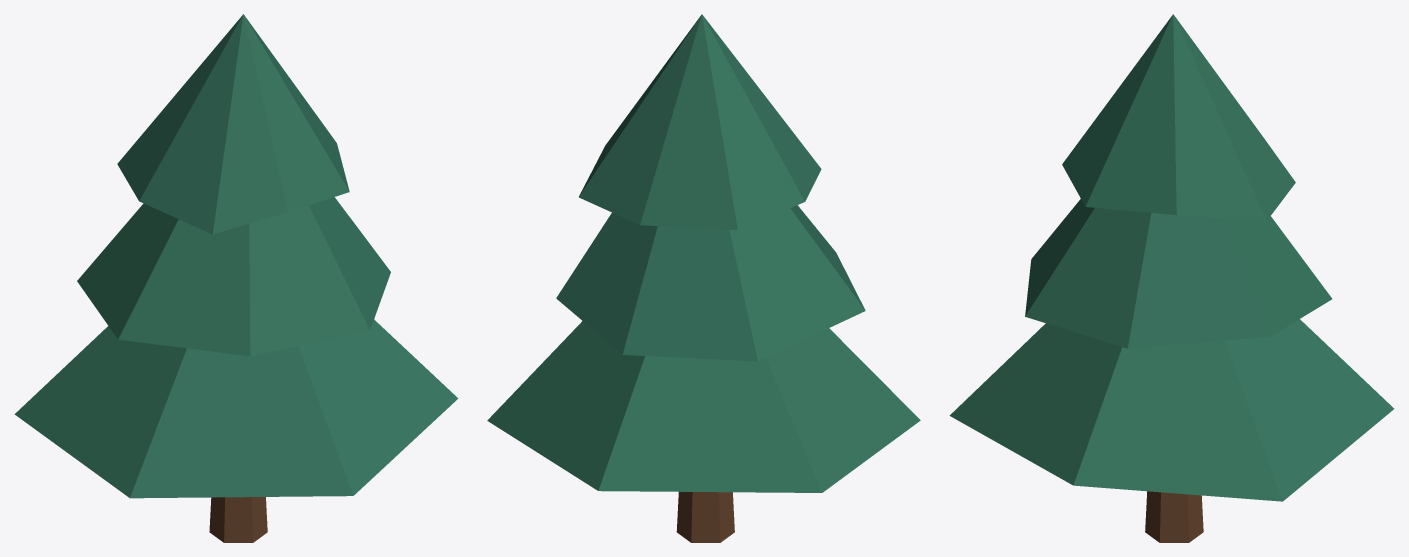
The model's file is Pine_C.glb.
3 views of the same model, side by side, from view 1: azimuth 30°, elevation 25°; view 2: azimuth 150°, elevation 25°; view 3: azimuth 270°, elevation 25° (orthographic).
Parts seen in each view (by area): view 1: Pine_C; view 2: Pine_C; view 3: Pine_C.
Boxes of the visible parts, x1=… form: Pine_C: x1=14, y1=14, x2=458, y2=542; Pine_C: x1=487, y1=14, x2=920, y2=542; Pine_C: x1=949, y1=14, x2=1394, y2=542.
Bounding box in the file's own units: 2.97 × 4.31 × 3.34.
